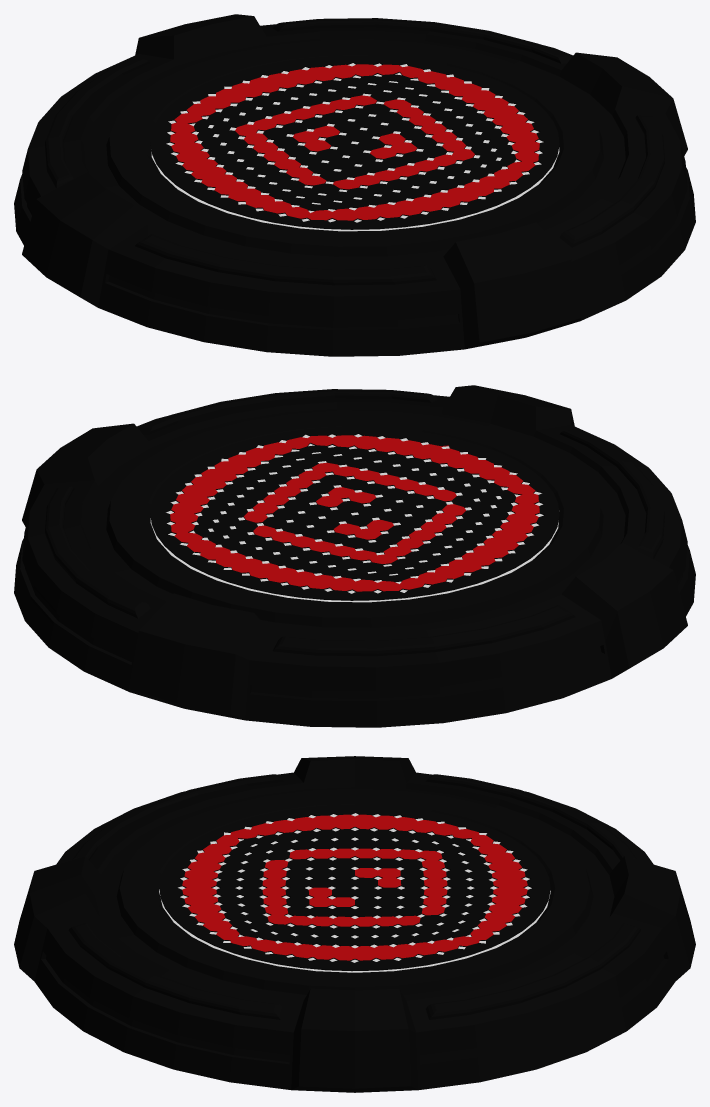
Rendered from Tec Platform.fbx.
3 renders of one model, top to bottom at view 1: azimuth 30°, elevation 25°; view 2: azimuth 150°, elevation 25°; view 3: azimuth 270°, elevation 25°, orthographic. The views are drawn at different scales.
Visible parts, largest first — view 1: Tec Platform, Cirkel; view 2: Tec Platform, Cirkel; view 3: Tec Platform, Cirkel.
Boxes of the visible parts, <box> form: Tec Platform: <box>14,14,695,356</box>; Cirkel: <box>151,63,559,231</box>; Tec Platform: <box>14,385,695,727</box>; Cirkel: <box>150,434,558,602</box>; Tec Platform: <box>14,756,695,1092</box>; Cirkel: <box>159,813,550,972</box>.
Size of the model in its own units: 24.79 by 3.21 by 24.79.
